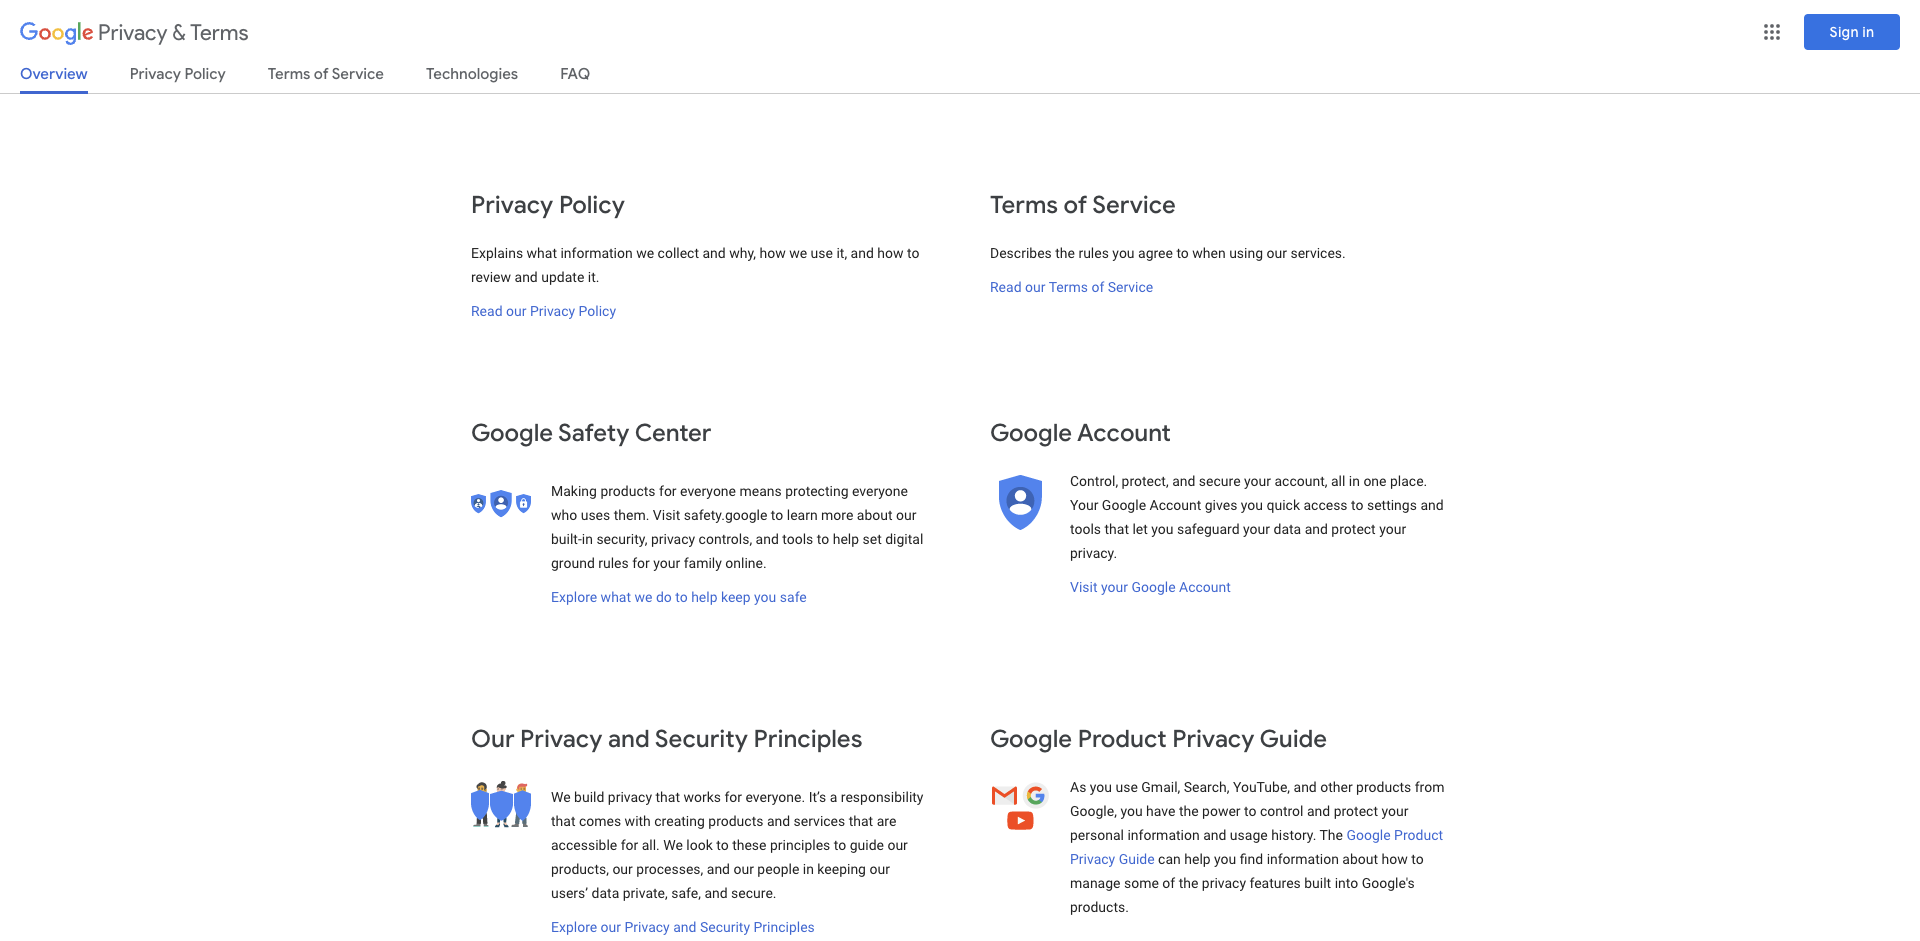button: (1752, 12, 1791, 51)
link: (1070, 827, 1442, 866), (20, 22, 249, 47), (551, 919, 814, 935), (551, 589, 807, 605), (1804, 13, 1900, 50), (268, 64, 384, 92), (130, 64, 225, 92), (989, 279, 1153, 295), (426, 64, 518, 92), (1070, 578, 1231, 594), (471, 303, 616, 319), (20, 64, 88, 94), (560, 64, 590, 92)
